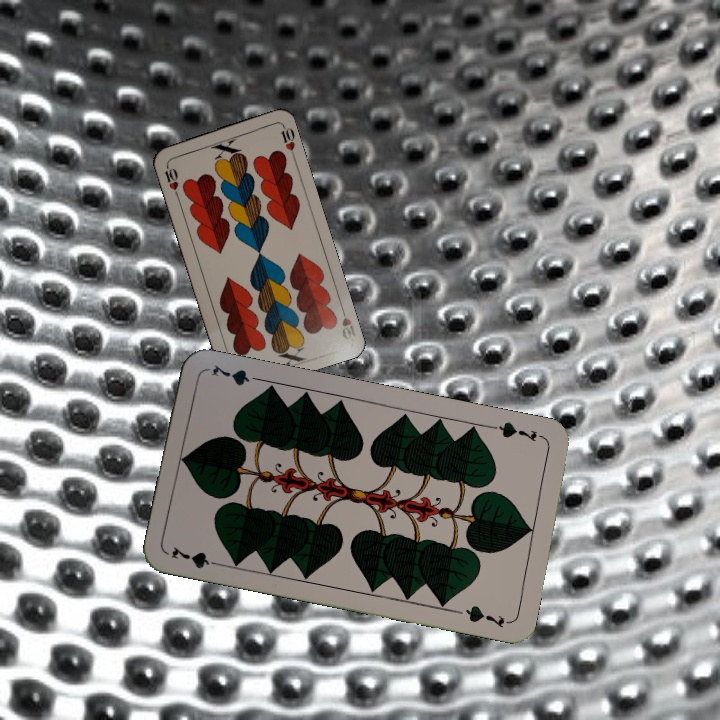G7: (167, 542, 226, 571), (488, 417, 547, 445)
H10: (337, 302, 358, 343), (160, 160, 181, 199)
